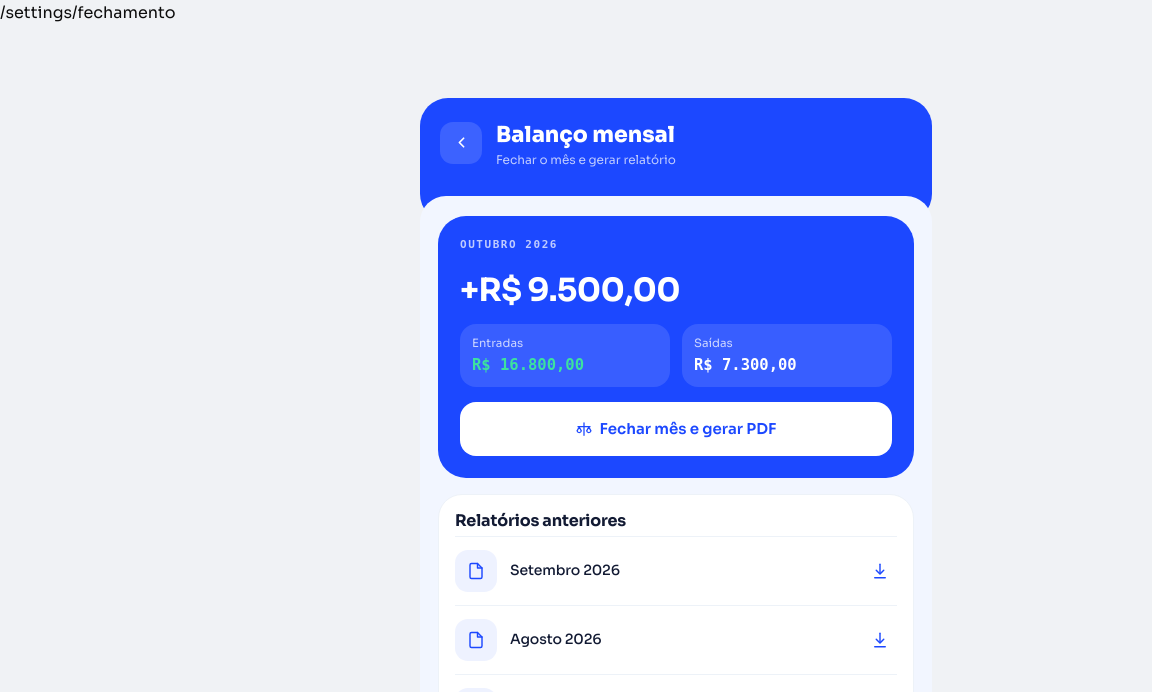
Test: Balanço mensal — mês já fechado e conta que fecha › o servidor recusa por mês já fechado (409): avisa e atualiza a tela
Expected: the text "+R$ 9.500,00" is shown, [460,270,680,310]
Click the button "Fechar mês e gerar PDF". click: (676, 429)
box: [460,402,892,456]
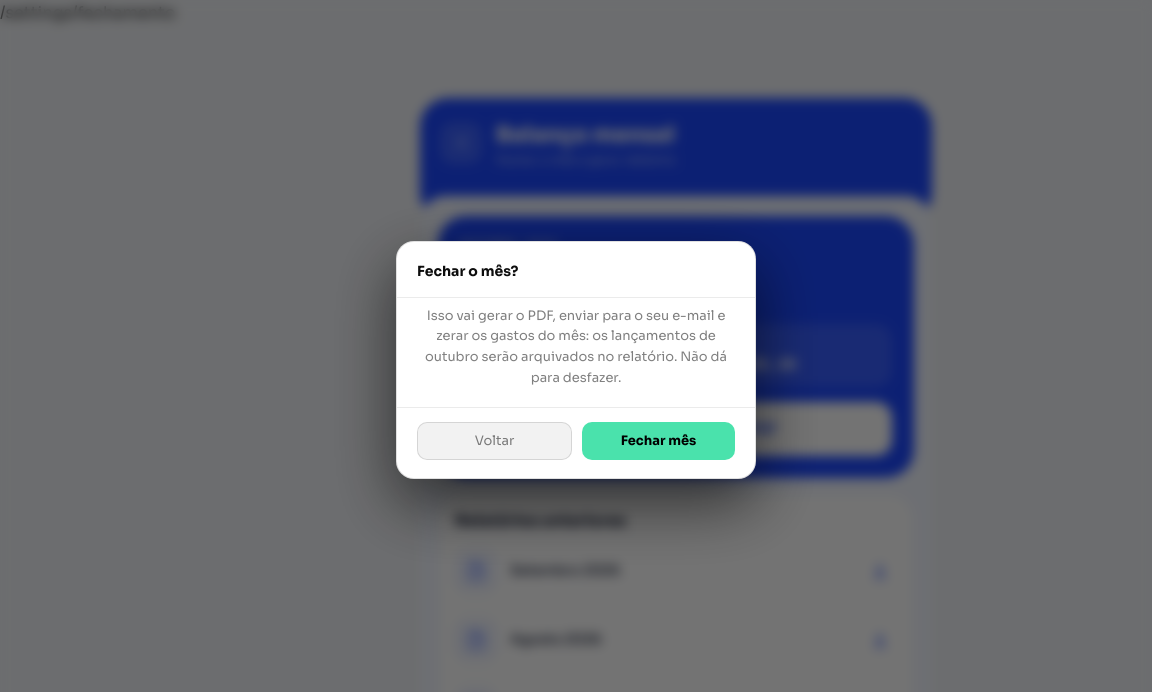
Click the button "Fechar mês". click: (658, 441)
box: [582,422,735,460]
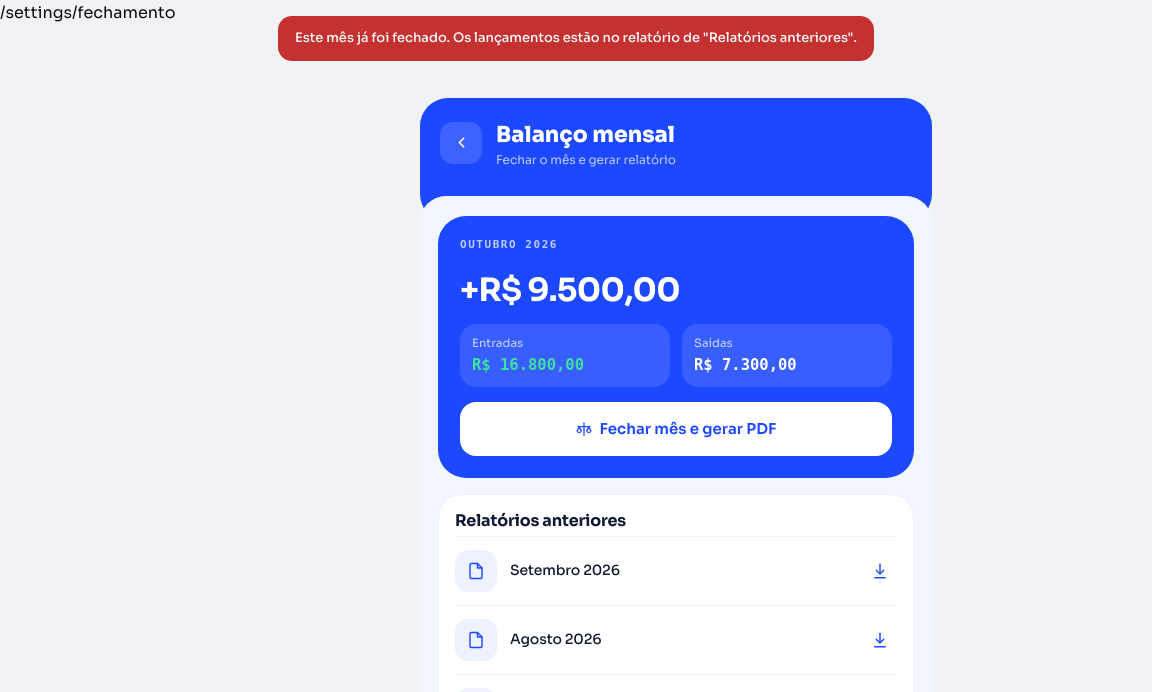
Now the text "Este mês já foi fechado" is shown, box [295,29,857,46]
